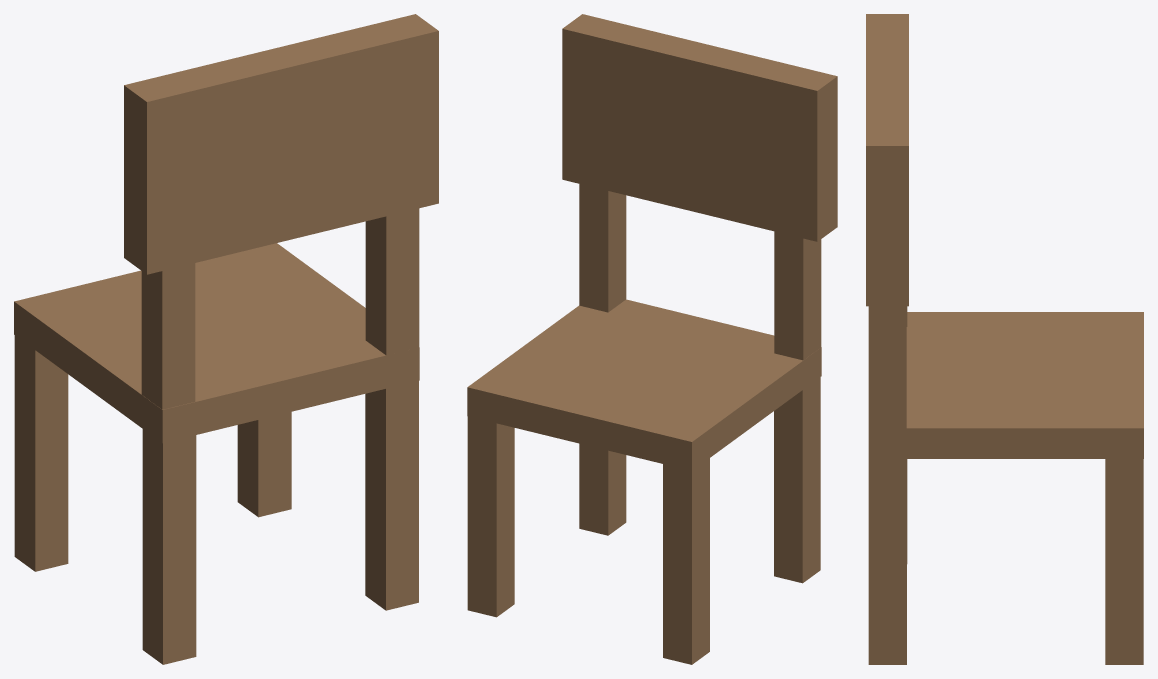
Rendered from chair.fbx.
3 views of the same model, side by side, from view 1: azimuth 30°, elevation 25°; view 2: azimuth 150°, elevation 25°; view 3: azimuth 270°, elevation 25° (orthographic). The views are drawn at different scales.
Visible parts, largest first — view 1: Cube.001; view 2: Cube.001; view 3: Cube.001.
Part boxes in pixels (x1,y1,x2,y2): Cube.001: (14, 14, 438, 664); Cube.001: (467, 14, 837, 664); Cube.001: (866, 14, 1143, 664).
Bounding box in the file's own units: 227 × 423 × 202.
